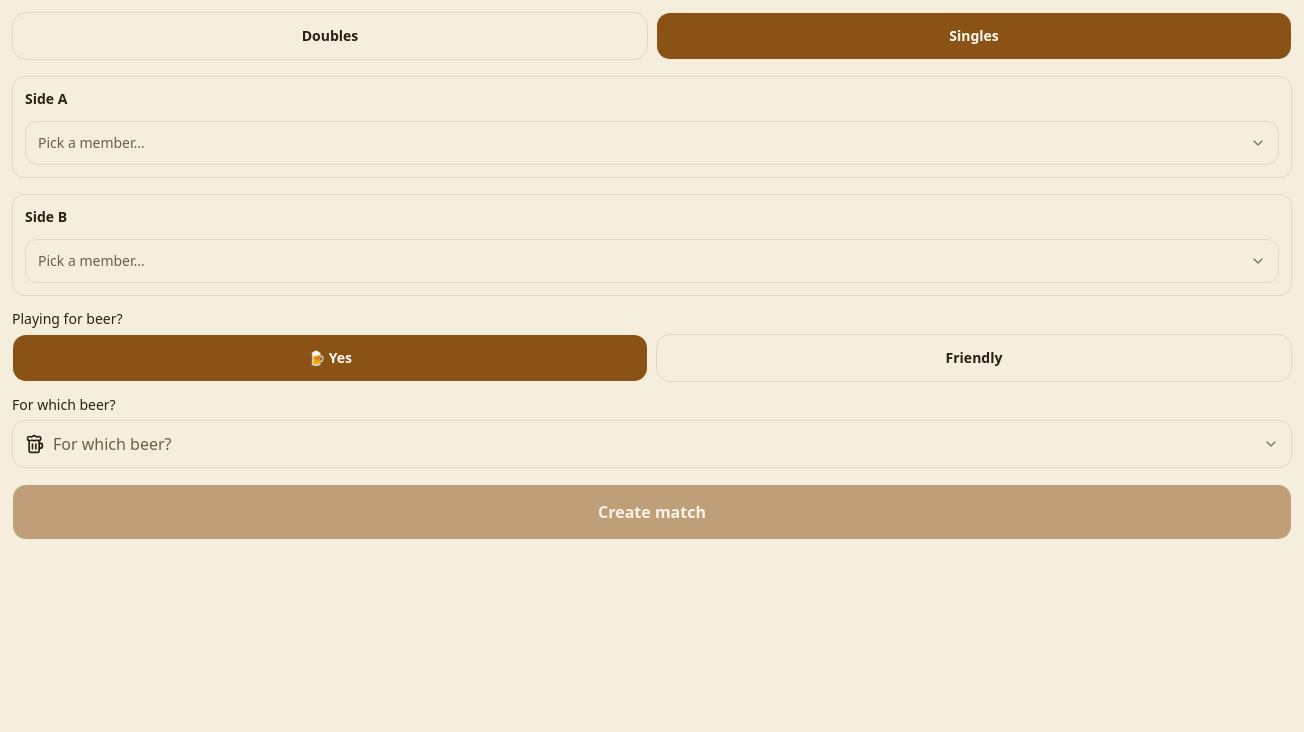
Test: NewMatchAgreementForm — bet beer picker (spec 030) › hides the beer picker when switched to Friendly
The width and height of the screenshot is (1304, 732).
Click the button "Friendly": (974, 358) [656,334,1292,382]
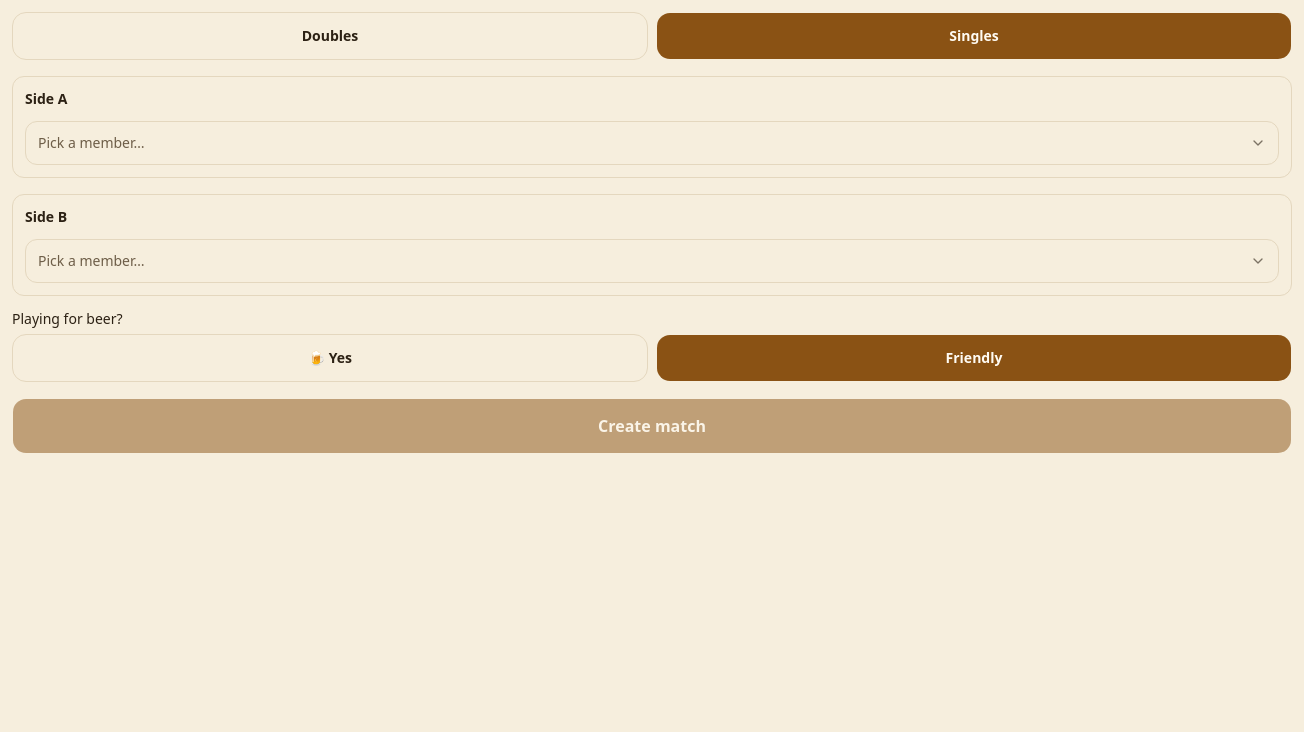
Now the text "For which beer?" is not shown
